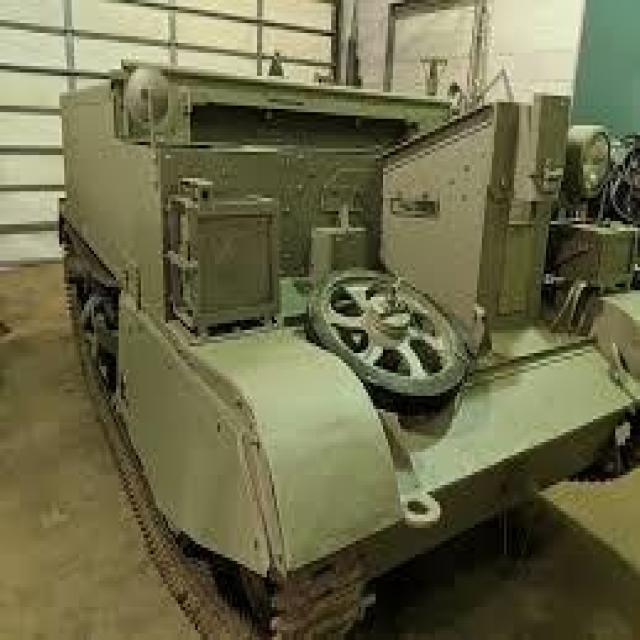MIL_MBT: (57, 58, 635, 628)
